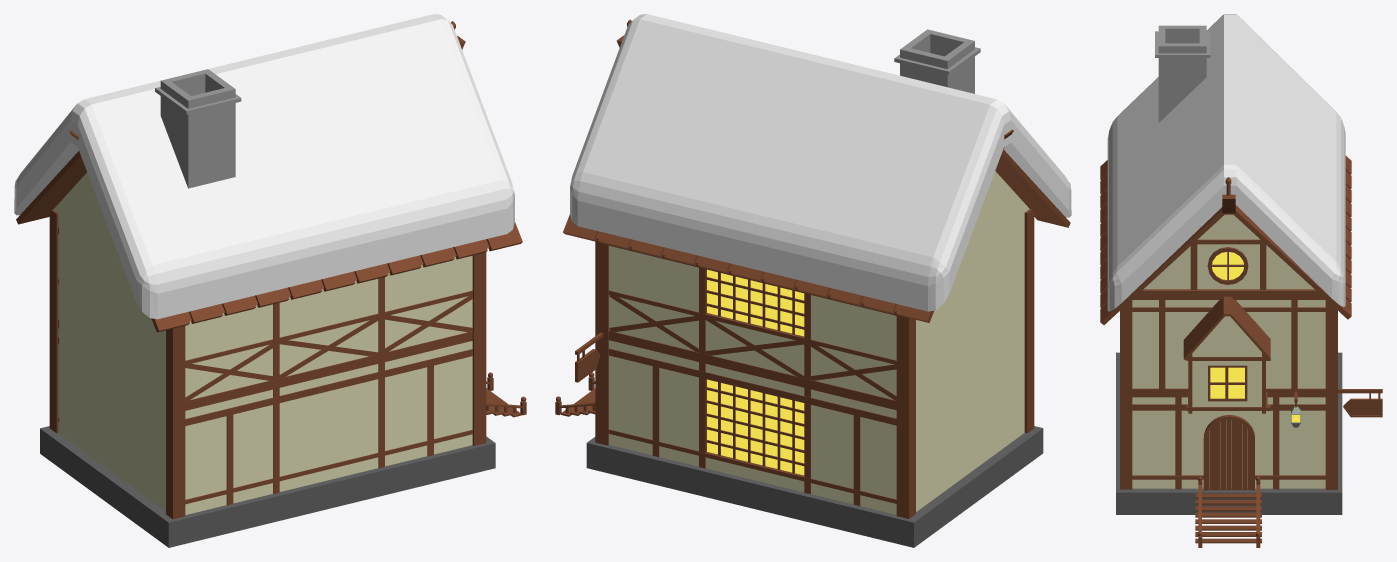
Rendered from house1.glb.
3 renders of one model, left to right at view 1: azimuth 30°, elevation 25°; view 2: azimuth 150°, elevation 25°; view 3: azimuth 270°, elevation 25°, orthographic. The views are drawn at different scales.
Visible parts, largest first — view 1: Cube.2128; view 2: Cube.2128; view 3: Cube.2128.
Boxes of the visible parts, <box> form: Cube.2128: <box>14,14,526,547</box>; Cube.2128: <box>555,14,1071,547</box>; Cube.2128: <box>1100,14,1382,547</box>.
Size of the model in its own units: 2.34 by 2.14 by 1.49.
